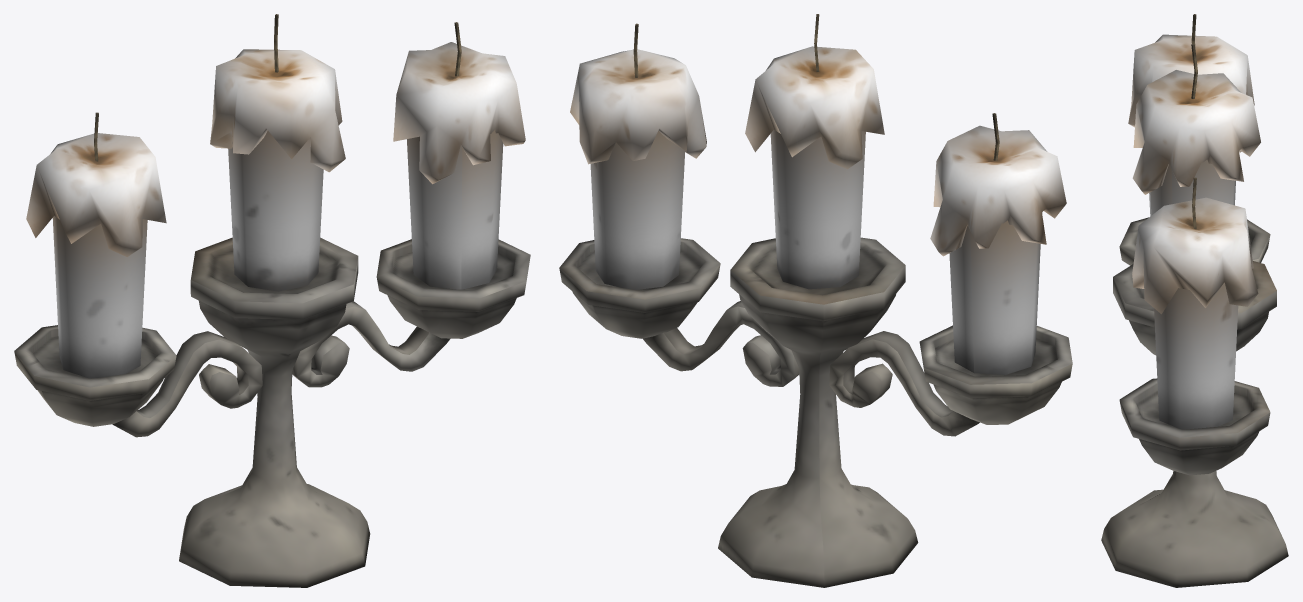
The model's file is sb_obj_indoor009_Candlestand01.fbx.
3 views of the same model, side by side, from view 1: azimuth 30°, elevation 25°; view 2: azimuth 150°, elevation 25°; view 3: azimuth 270°, elevation 25° (orthographic). The views are drawn at different scales.
Visible parts, largest first — view 1: sb_obj_indoor009_Candlestand01; view 2: sb_obj_indoor009_Candlestand01; view 3: sb_obj_indoor009_Candlestand01.
Boxes of the visible parts, x1,y1,x2,y2 form: sb_obj_indoor009_Candlestand01: (14, 14, 530, 587); sb_obj_indoor009_Candlestand01: (559, 14, 1072, 587); sb_obj_indoor009_Candlestand01: (1101, 14, 1288, 587).
Size of the model in its own units: 0.4124 by 0.4232 by 0.1426.
